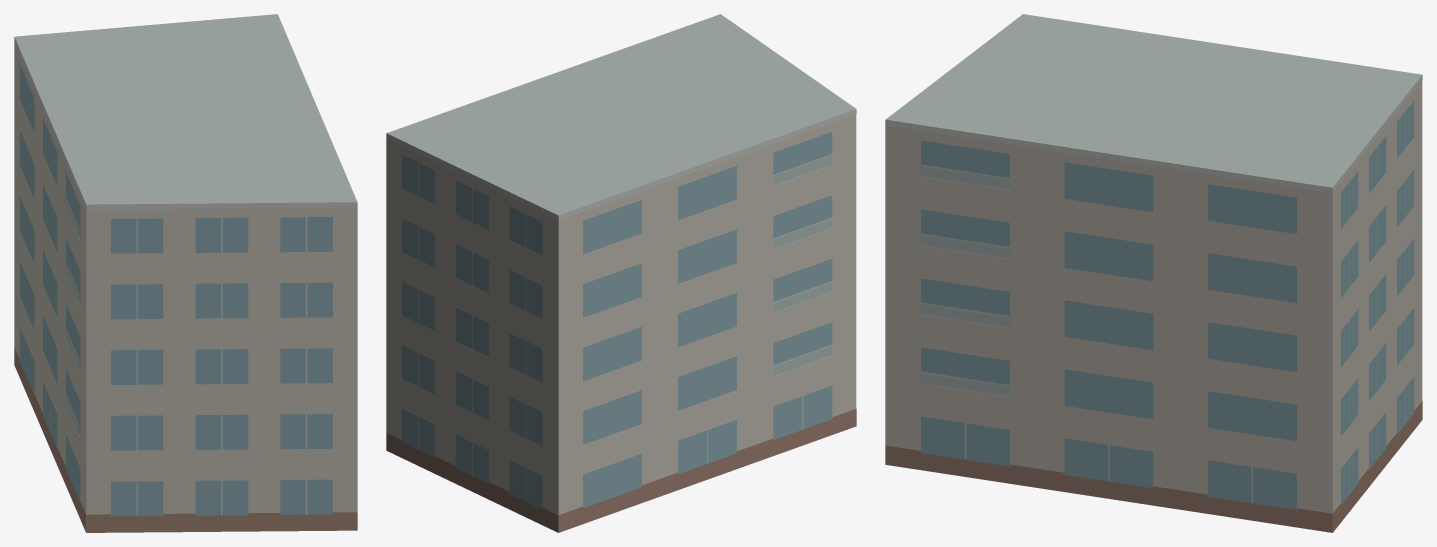
Rendered from survey-upis-32886655.glb.
The picture shows the model from 3 angles, left to right: view 1: azimuth 30°, elevation 25°; view 2: azimuth 150°, elevation 25°; view 3: azimuth 270°, elevation 25°; orthographic projection. The views are drawn at different scales.
Visible parts, largest first — view 1: survey-upis-32886655.tmp; view 2: survey-upis-32886655.tmp; view 3: survey-upis-32886655.tmp.
Part boxes in pixels (<box>): survey-upis-32886655.tmp: <box>14,14,357,532</box>; survey-upis-32886655.tmp: <box>386,14,856,532</box>; survey-upis-32886655.tmp: <box>885,14,1422,532</box>.
Bounding box in the file's own units: 16 × 14.8 × 20.88.
